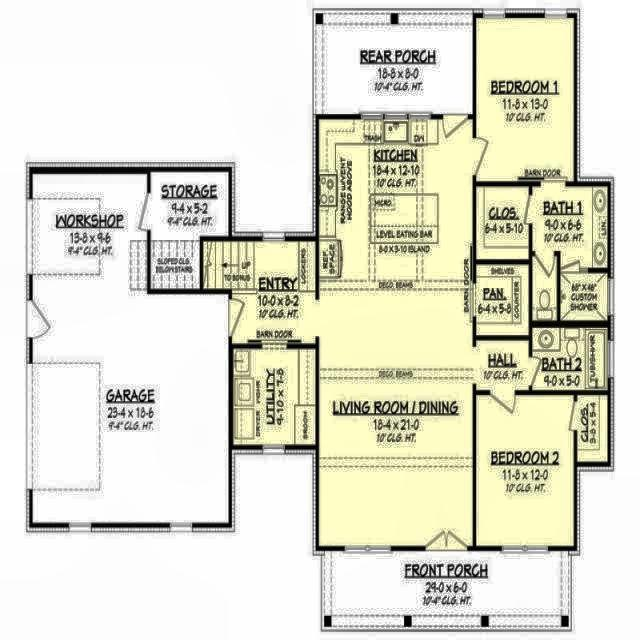room: (171, 84, 574, 594), (33, 174, 229, 522), (477, 18, 574, 180), (476, 396, 573, 544), (331, 555, 561, 615), (323, 24, 473, 114), (532, 186, 608, 321), (151, 172, 228, 288), (233, 350, 315, 445), (532, 329, 607, 389), (477, 189, 528, 259), (477, 265, 528, 334), (577, 396, 607, 460), (533, 258, 556, 318)
